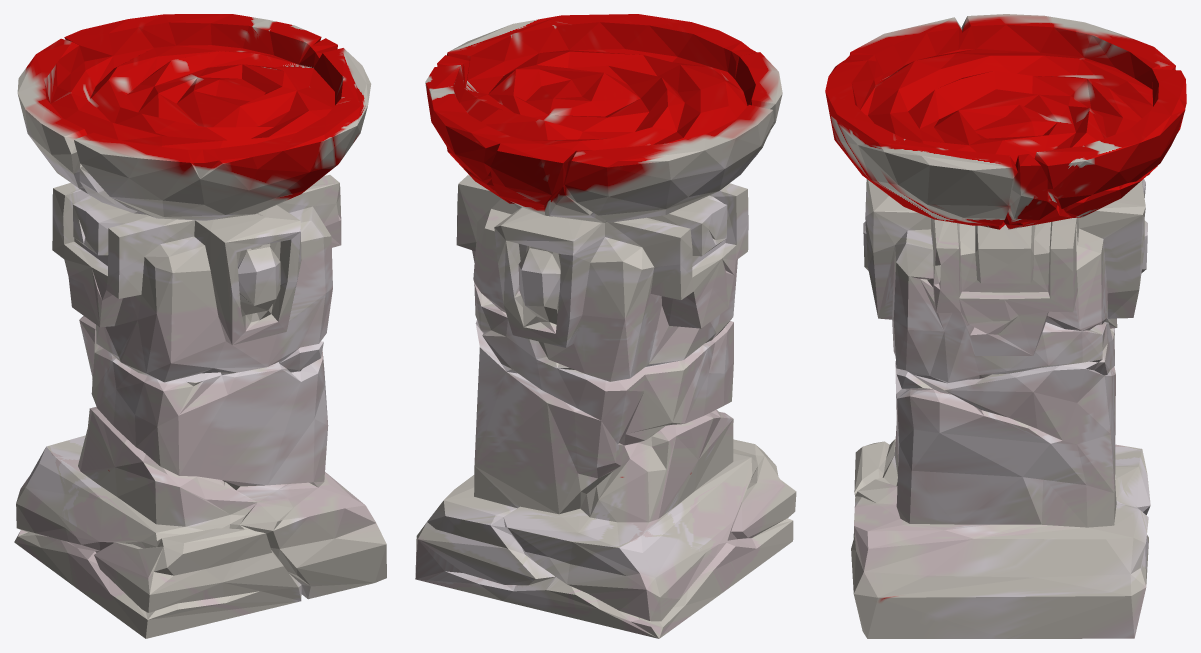
Rendered from plate.fbx.
The picture shows the model from 3 angles, left to right: view 1: azimuth 30°, elevation 25°; view 2: azimuth 150°, elevation 25°; view 3: azimuth 270°, elevation 25°; orthographic projection. The views are drawn at different scales.
Parts seen in each view (by area): view 1: TGDay4-Altar; view 2: TGDay4-Altar; view 3: TGDay4-Altar.
Boxes of the visible parts, box(x1,y1,x2,y2) form: TGDay4-Altar: box(14, 14, 386, 638); TGDay4-Altar: box(415, 14, 796, 638); TGDay4-Altar: box(825, 14, 1186, 638).
Bounding box in the file's own units: 1974 × 2936 × 1972.
1 material, 1 textured.
